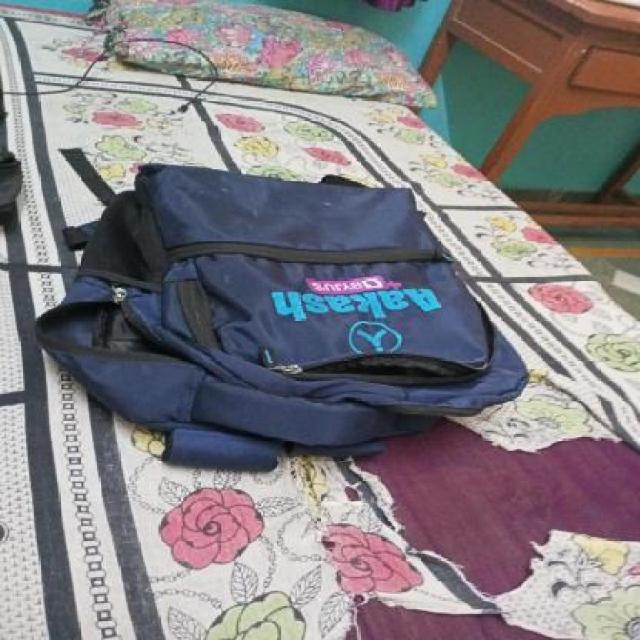backpack: (35, 156, 537, 478)
